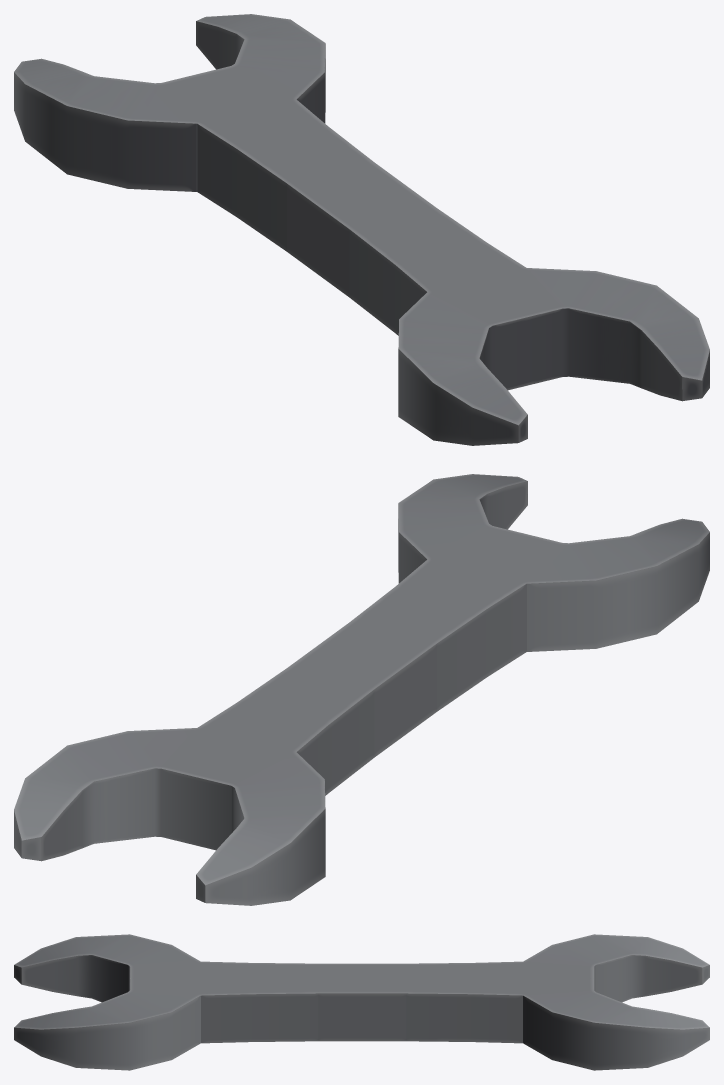
Rendered from Wrench.FBX.
The picture shows the model from 3 angles, top to bottom: view 1: azimuth 30°, elevation 25°; view 2: azimuth 150°, elevation 25°; view 3: azimuth 270°, elevation 25°; orthographic projection. The views are drawn at different scales.
Visible parts, largest first — view 1: Wrench; view 2: Wrench; view 3: Wrench.
Boxes of the visible parts, bbox=[...] form: Wrench: bbox=[14, 14, 709, 445]; Wrench: bbox=[14, 474, 709, 905]; Wrench: bbox=[14, 934, 709, 1070].
Bounding box in the file's own units: 8.6 × 2.12 × 27.88.
Materials: 1 (1 with a texture image).
